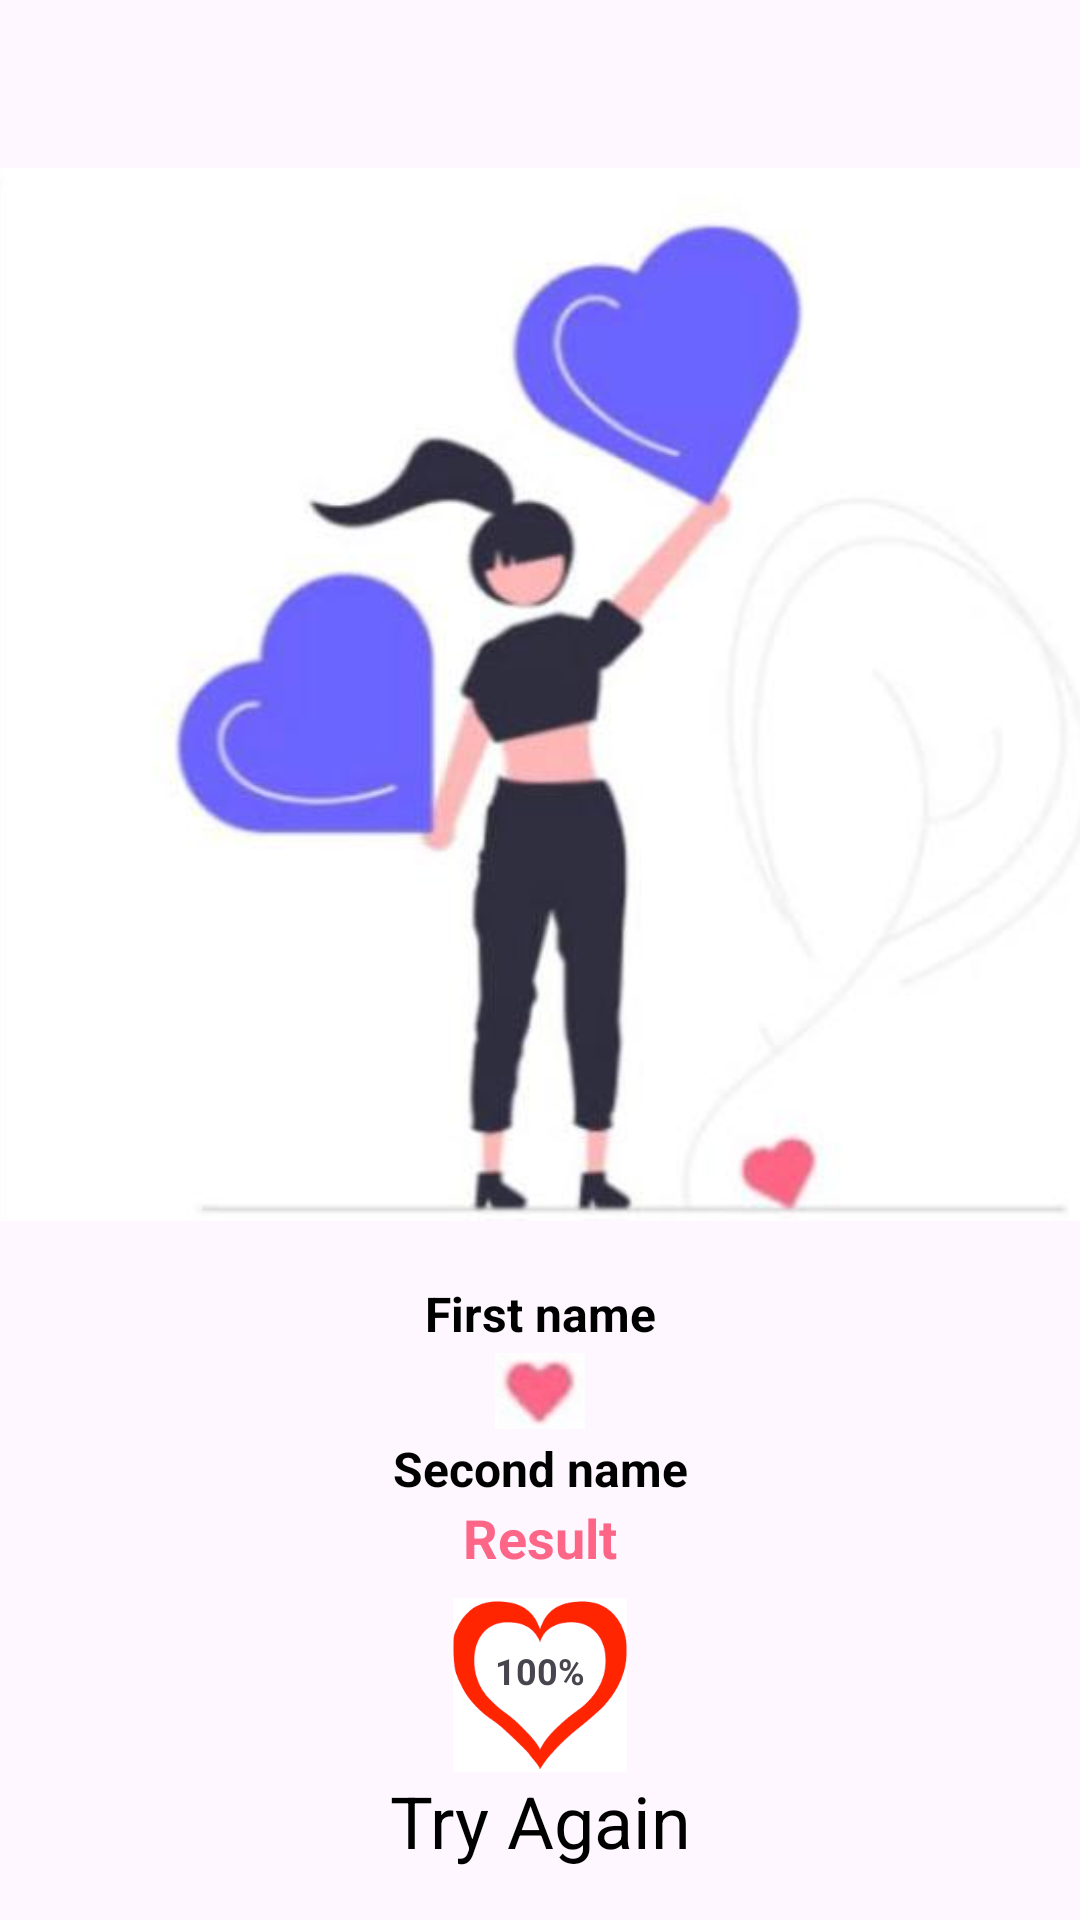

Where icons sit on this 1080 x 1920 app screen, as Rect(x1, y1, x2, y2):
heart: Rect(504, 1361, 575, 1423)
heart score: Rect(453, 1601, 627, 1769)
